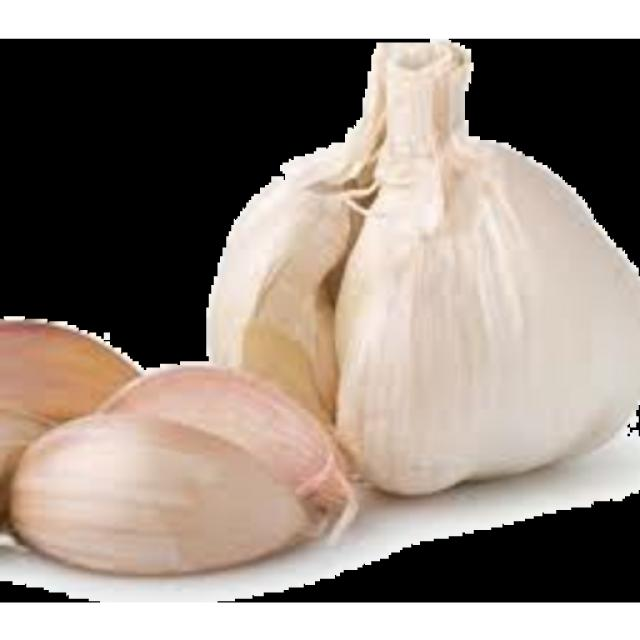garlic: (195, 124, 640, 506)
